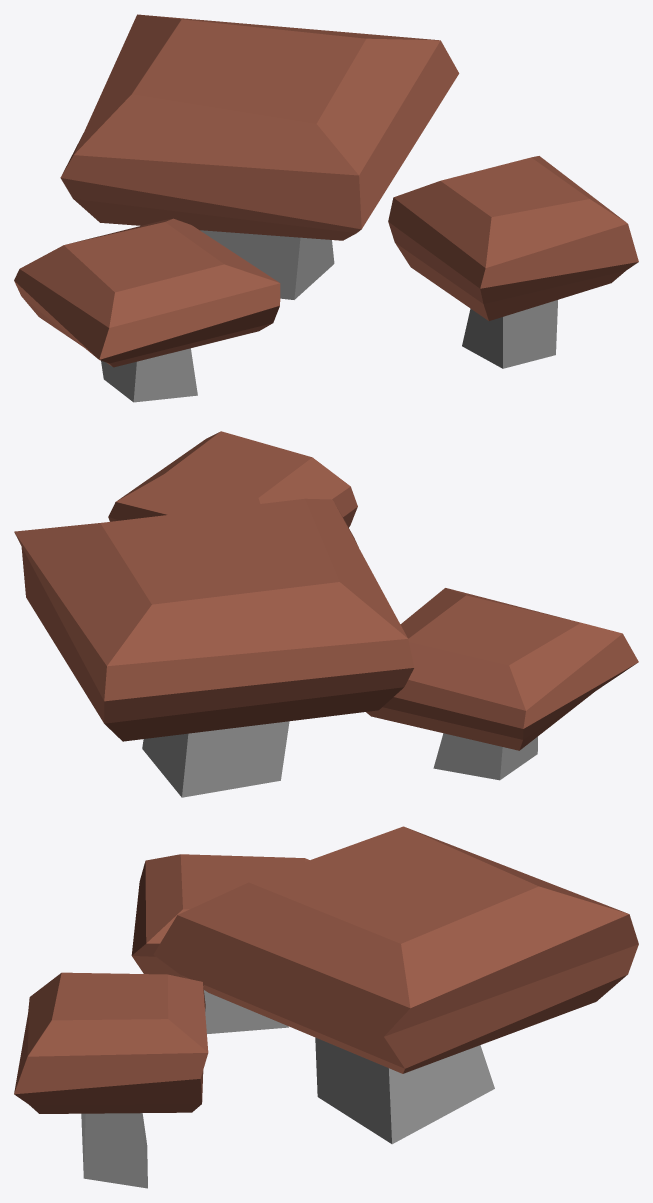
The model's file is mushroom_2.fbx.
The picture shows the model from 3 angles, top to bottom: view 1: azimuth 30°, elevation 25°; view 2: azimuth 150°, elevation 25°; view 3: azimuth 270°, elevation 25°; orthographic projection. The views are drawn at different scales.
Parts seen in each view (by area): view 1: forest_mush_2_LOD0; view 2: forest_mush_2_LOD0; view 3: forest_mush_2_LOD0.
Part boxes in pixels (x1,y1,x2,y2): forest_mush_2_LOD0: (14,14,638,402); forest_mush_2_LOD0: (14,431,638,797); forest_mush_2_LOD0: (14,826,638,1188).
Size of what is drawn, in the model's own units: 502 by 218 by 547.
